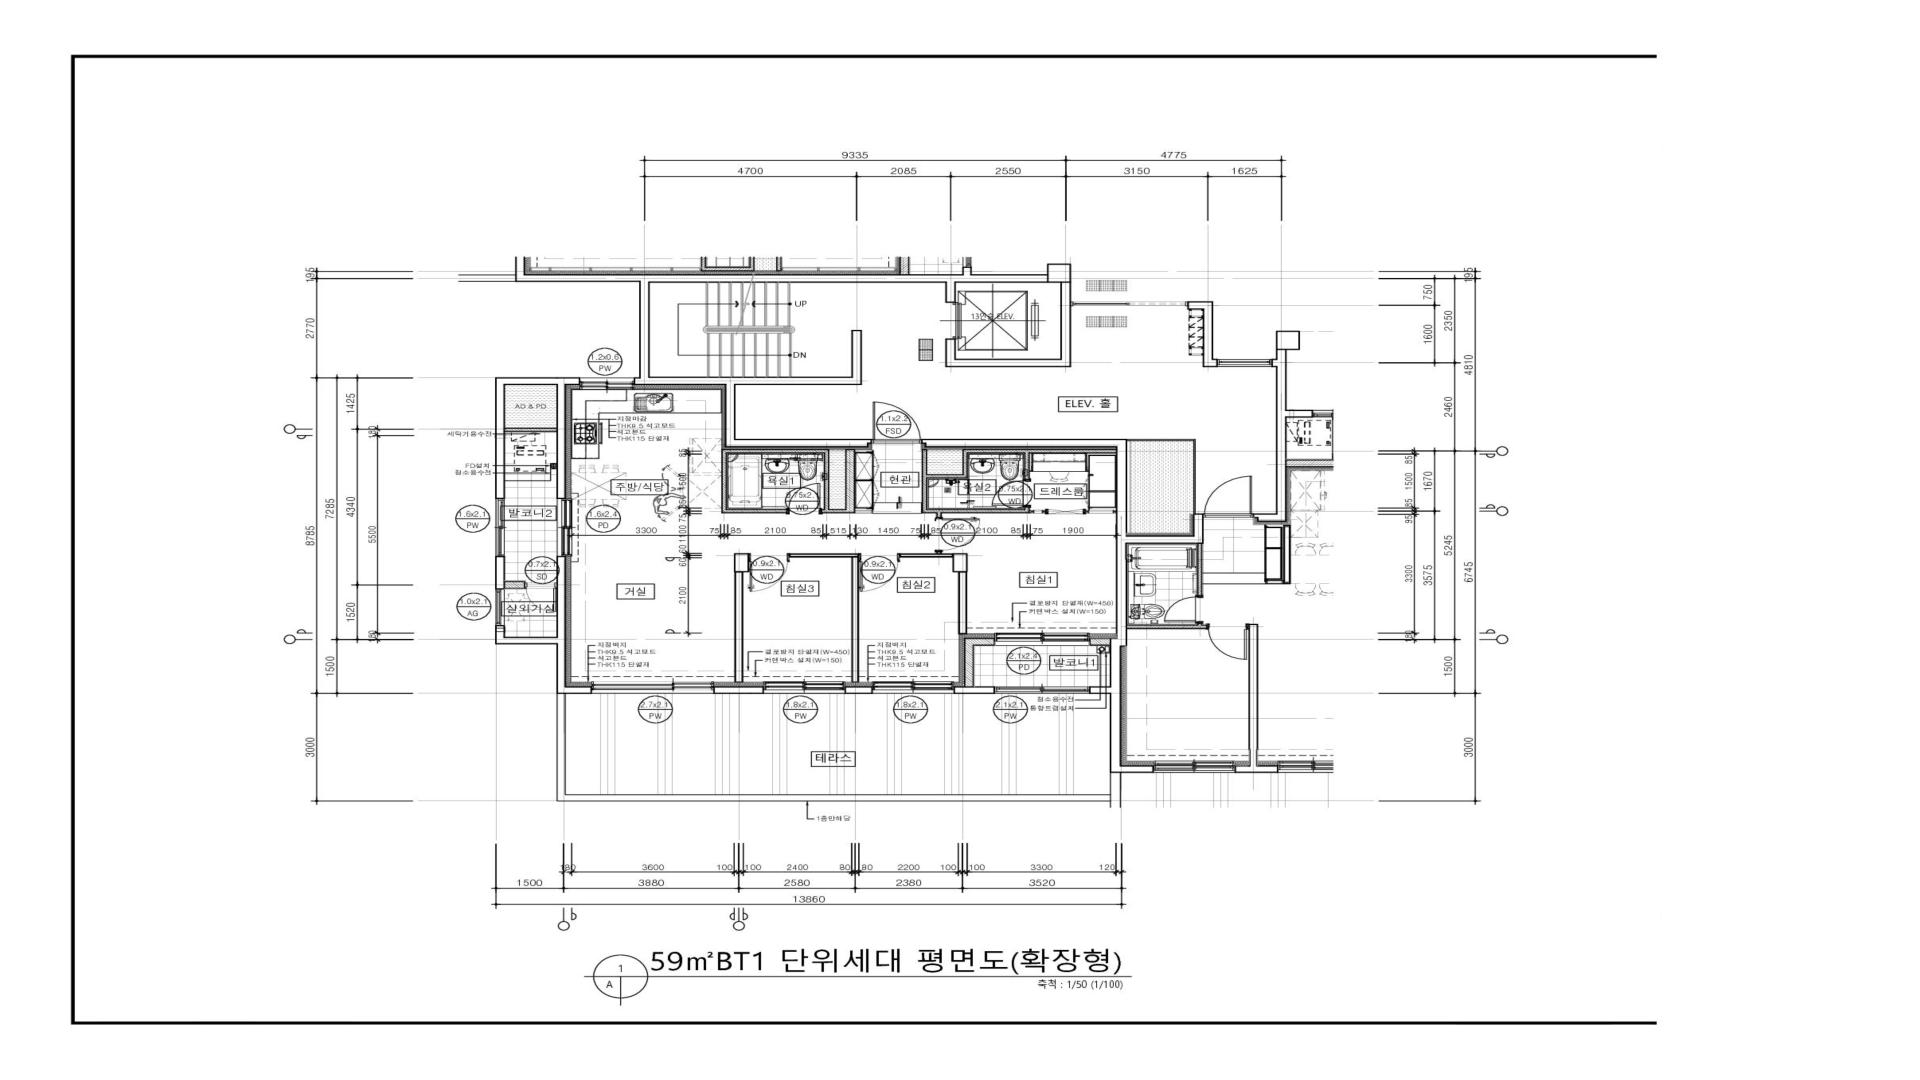door: (872, 401, 922, 443), (1204, 476, 1254, 517), (935, 517, 980, 554), (749, 553, 789, 592), (858, 554, 899, 592), (787, 483, 822, 514), (992, 480, 1030, 506), (525, 583, 556, 612), (1071, 302, 1188, 306), (1030, 509, 1117, 514)
wall: (634, 264, 1071, 447), (922, 439, 1204, 694), (495, 556, 592, 694), (495, 377, 580, 498), (1253, 331, 1300, 522), (1127, 439, 1196, 514), (1187, 302, 1217, 367), (964, 638, 994, 687), (927, 506, 1030, 517), (735, 572, 744, 683), (852, 558, 858, 683), (845, 448, 855, 513), (967, 450, 1117, 454), (957, 572, 967, 634), (723, 450, 829, 454), (495, 556, 505, 589), (922, 448, 927, 513), (713, 687, 764, 694), (824, 454, 829, 509), (789, 554, 858, 558), (953, 687, 994, 694), (953, 554, 968, 572), (735, 554, 749, 572), (727, 509, 787, 513), (723, 454, 727, 513), (899, 554, 953, 558), (505, 427, 556, 431), (845, 687, 873, 694), (1089, 638, 1110, 646), (1025, 454, 1030, 480), (505, 582, 525, 588), (927, 475, 967, 477), (820, 509, 845, 513), (963, 450, 967, 475)
window: (592, 682, 713, 694), (994, 633, 1089, 646), (872, 682, 953, 694), (764, 682, 845, 694), (556, 498, 572, 556), (580, 377, 634, 390), (994, 687, 1089, 694), (495, 498, 505, 556), (1217, 359, 1271, 367), (495, 589, 505, 625)
